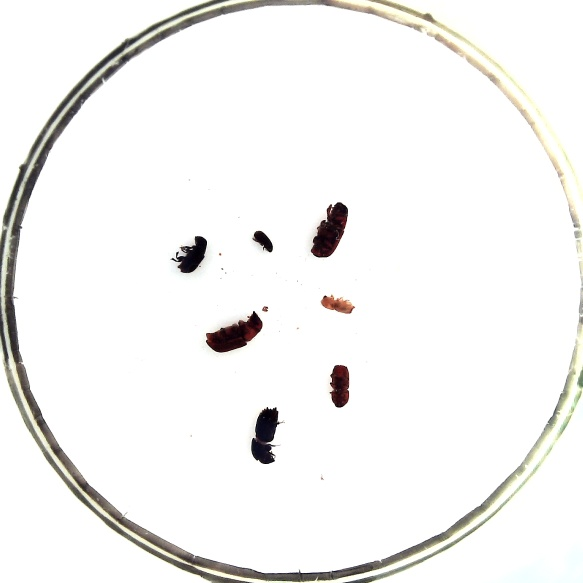acuminatus: (254, 230, 272, 252)
armandi: (178, 236, 207, 273)
boerner: (251, 406, 278, 464)
coleoptera: (320, 295, 354, 314)
leconte: (206, 310, 263, 352), (310, 202, 348, 258)
linnaeus: (329, 365, 349, 407)
